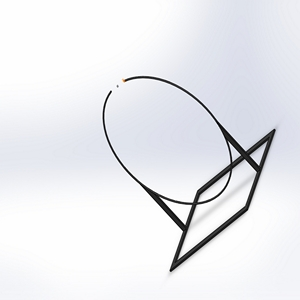circle: (98, 72, 279, 271)
